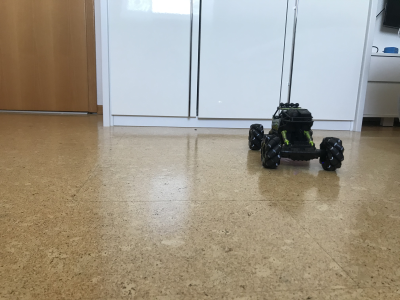remote control car: (245, 101, 347, 173)
